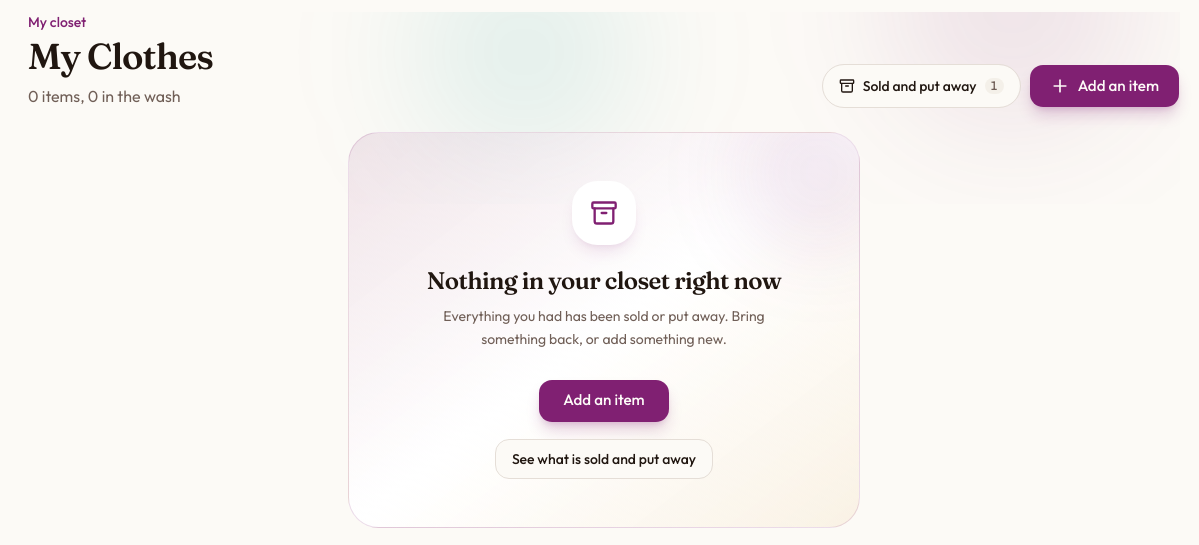
Test: ClosetPage › always offers a way back out of the sold and put-away list
Step 1. Click the button "Sold and put away 1" → (921, 86), box [822,64,1021,108]
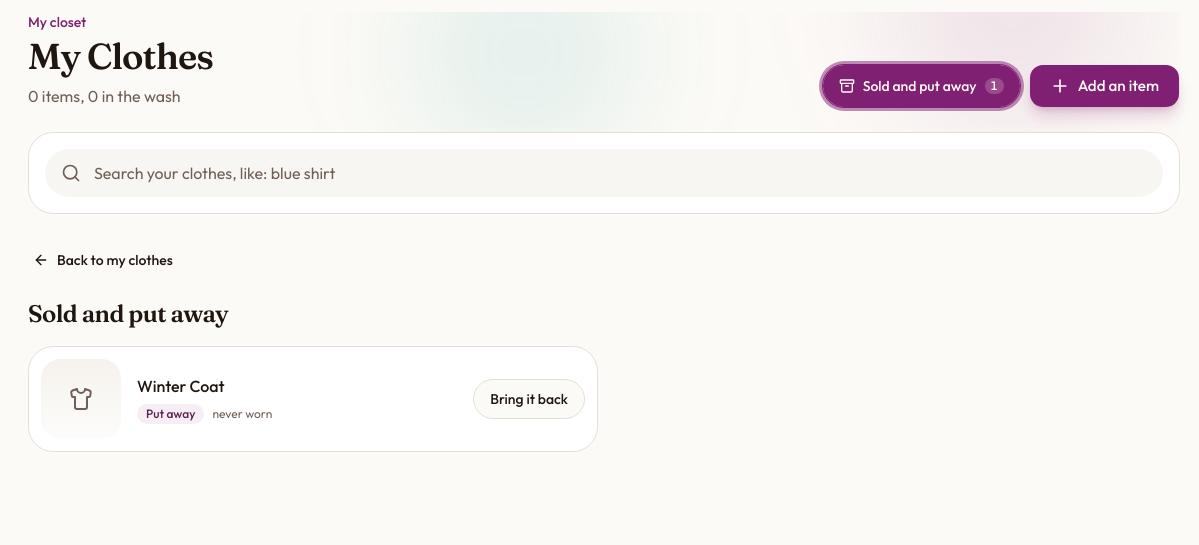
Result: the text "Winter Coat" is shown at [137,376,225,396]
Step 2. Click the button "Back to my clothes" → (103, 260), box [16,238,190,282]
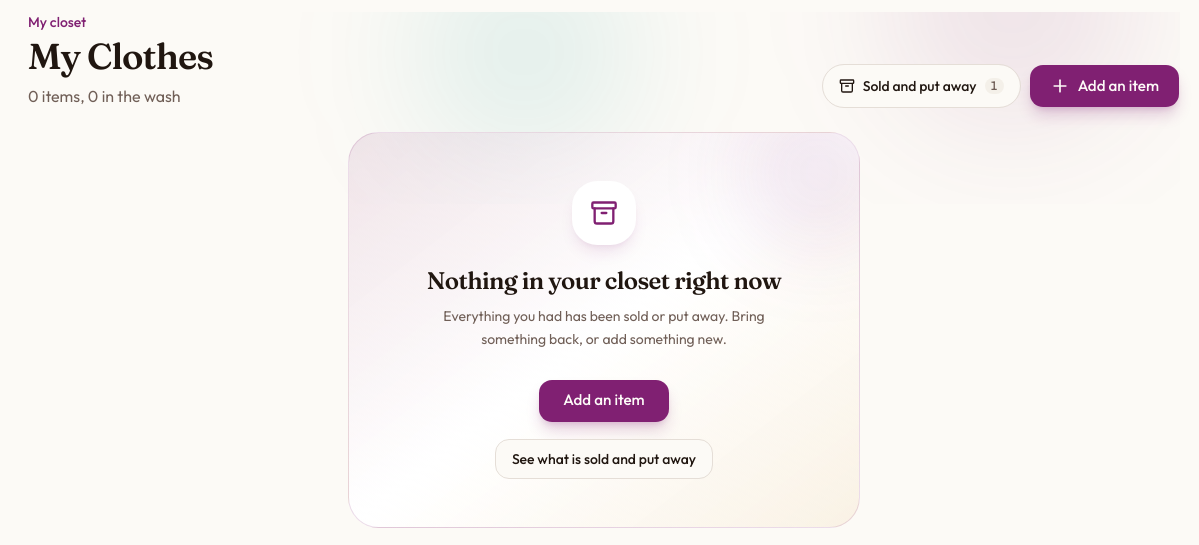
Result: the text "Winter Coat" is gone
Result: the heading "Nothing in your closet right now" is shown at [427,266,781,295]
